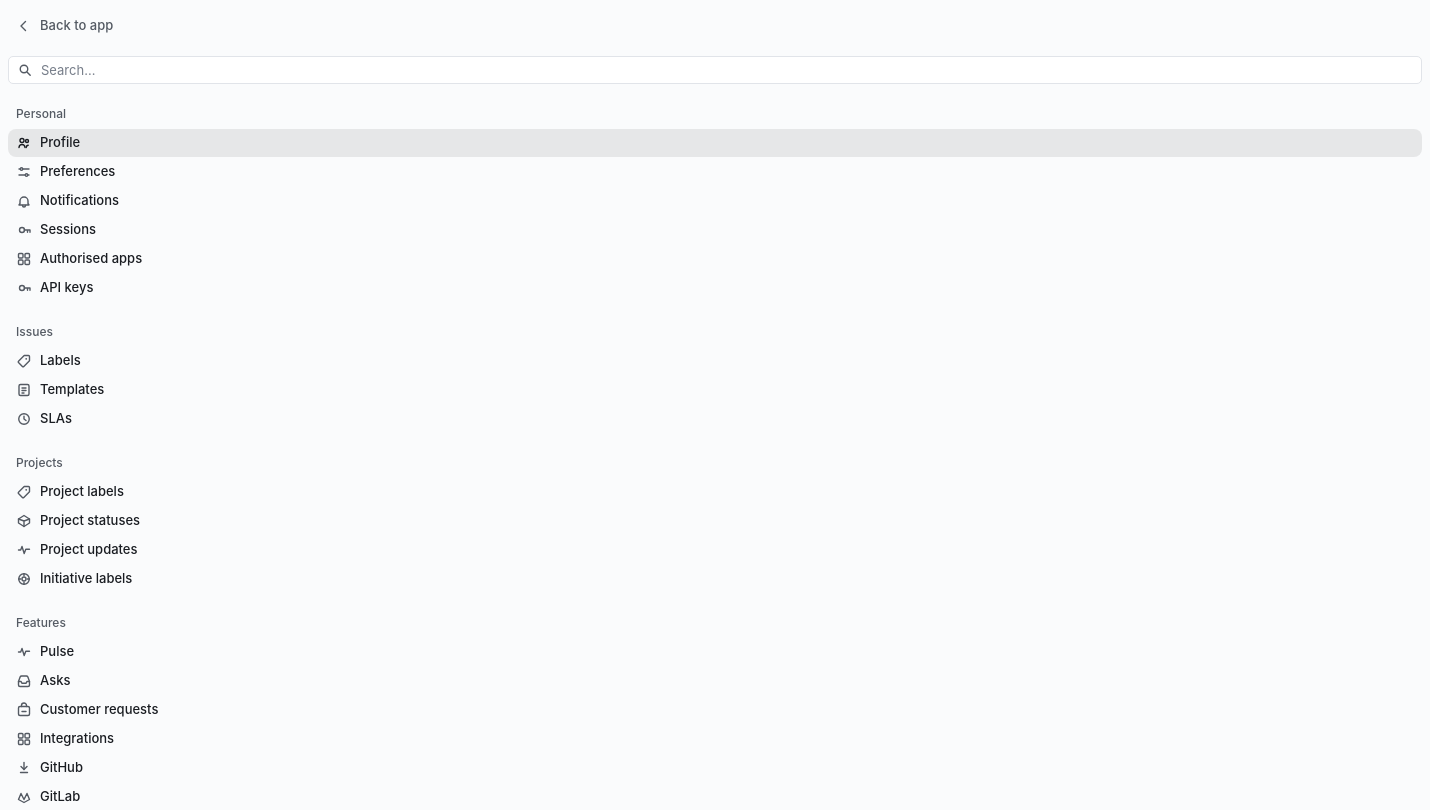
it: SettingsNav › says so when nothing matches, and keeps the way out
Step 1. Type "zzz" into the search field named "Search settings" → (727, 70), box [41,57,1413,83]
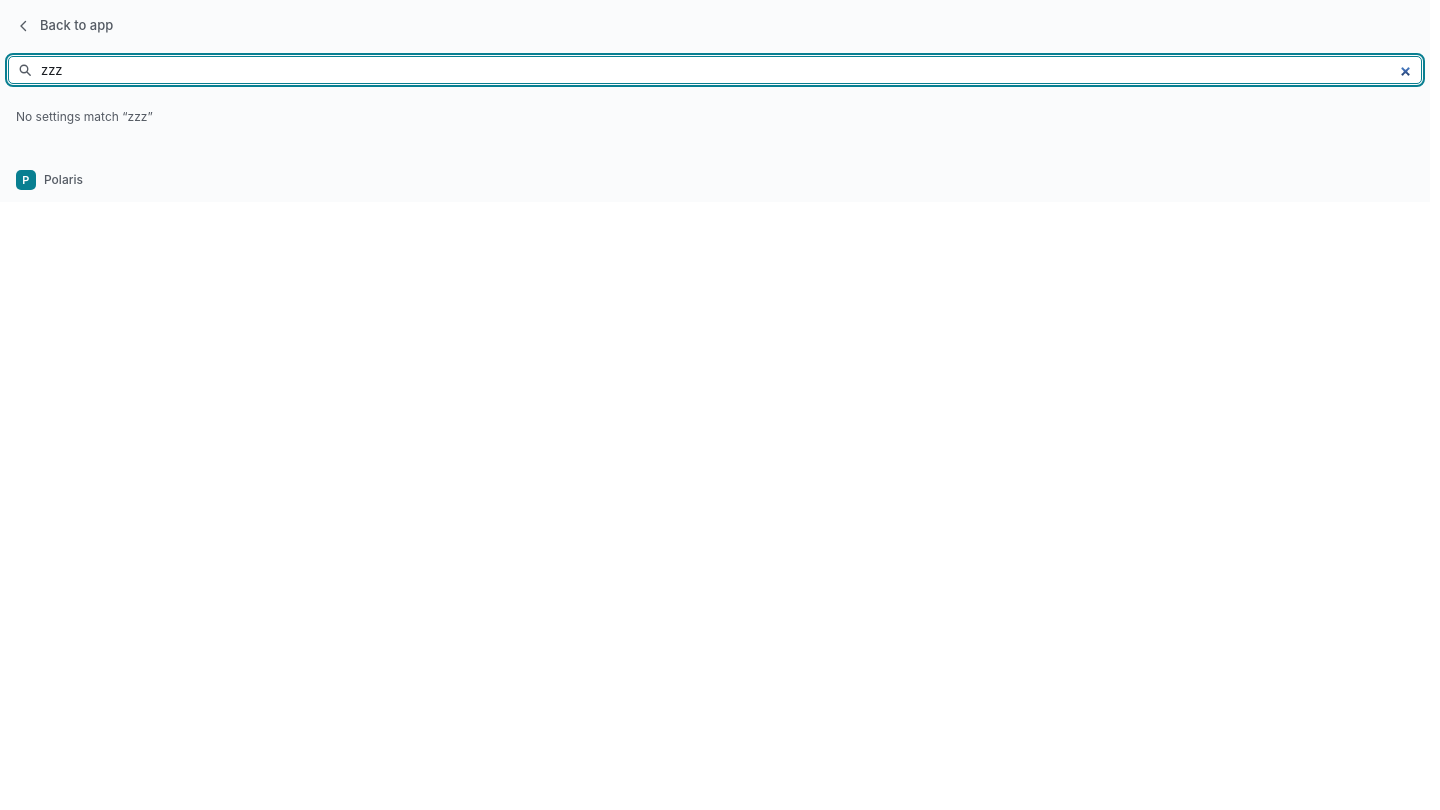
Check: the link "Back to app" is shown, box [16,17,113,34]
Check: the message reads "No settings match “zzz”", box [16,109,153,124]
Check: the heading "Personal" is gone
